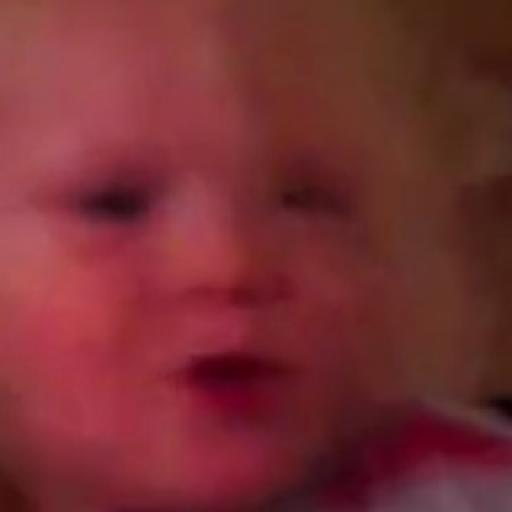Autism: (10, 30, 420, 476)
